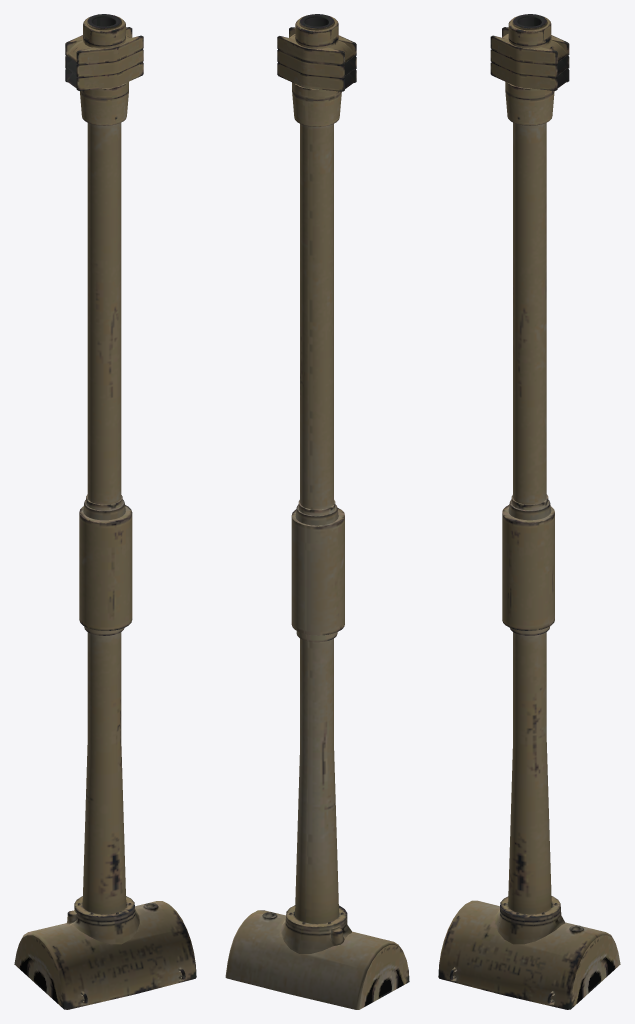
File: Gun_04.glb
3 renders of one model, left to right at view 1: azimuth 30°, elevation 25°; view 2: azimuth 150°, elevation 25°; view 3: azimuth 330°, elevation 25°, orthographic.
Visible parts, largest first — view 1: set_0_group_0; view 2: set_0_group_0; view 3: set_0_group_0.
Boxes of the visible parts, x1,y1,x2,y2 form: set_0_group_0: (14,14,196,1009); set_0_group_0: (225,14,409,1009); set_0_group_0: (438,14,620,1009).
Bounding box in the file's own units: 0.8032 × 5.53 × 0.6012.
Materials: 1 (1 with a texture image).
